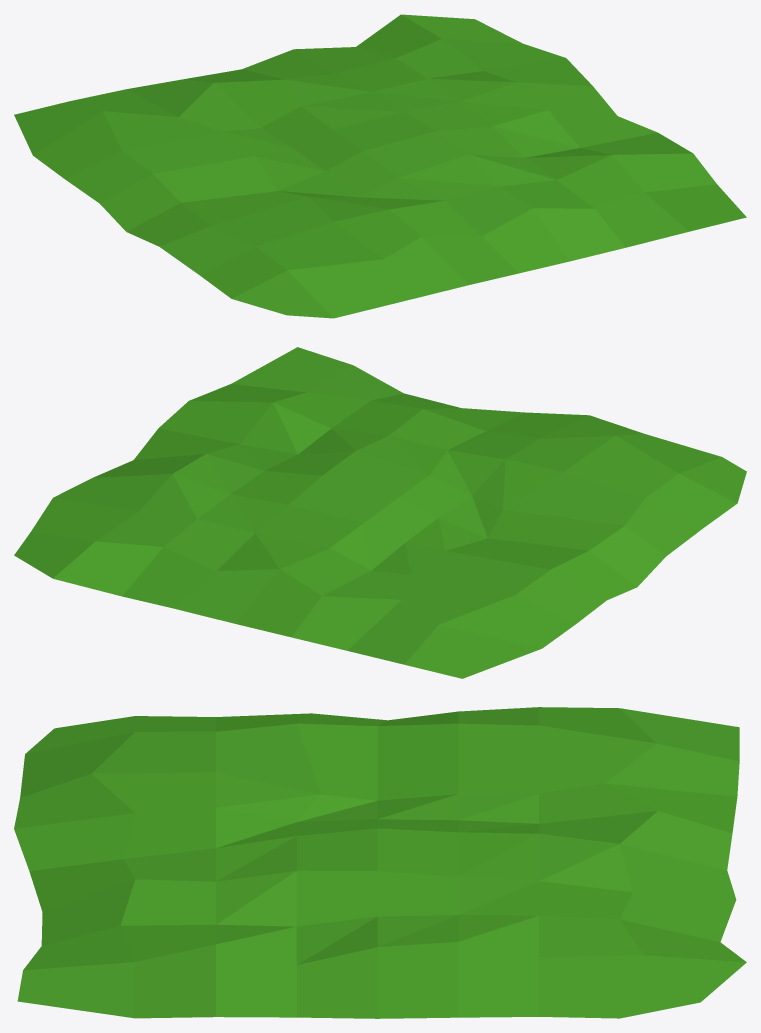
Rendered from Terrain.FBX.
The picture shows the model from 3 angles, top to bottom: view 1: azimuth 30°, elevation 25°; view 2: azimuth 150°, elevation 25°; view 3: azimuth 270°, elevation 25°; orthographic projection. The views are drawn at different scales.
Visible parts, largest first — view 1: terrain; view 2: terrain; view 3: terrain.
Boxes of the visible parts, bbox=[...] form: terrain: bbox=[14, 14, 746, 318]; terrain: bbox=[14, 347, 746, 678]; terrain: bbox=[14, 707, 746, 1018].
Size of the model in its own units: 231173 by 232733 by 14544.
